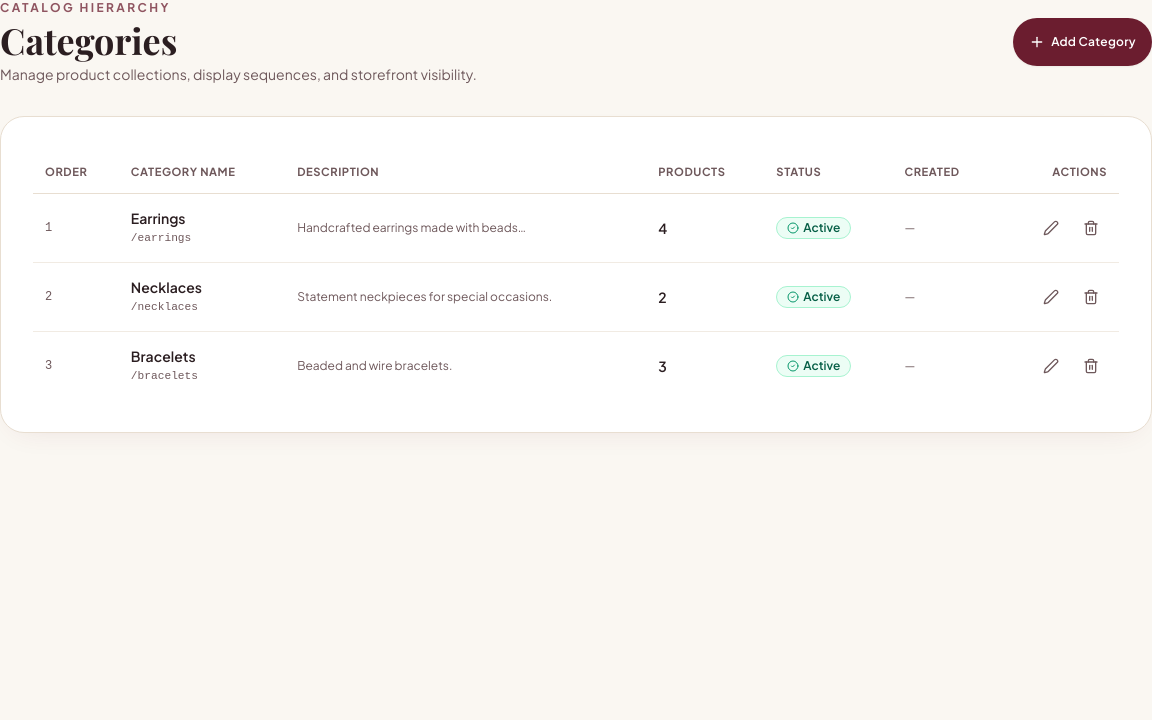
AdminCategoriesPage › opens delete confirmation and deletes category
This screenshot has width=1152, height=720.
Check: the text "Earrings" is shown, box [131, 209, 186, 227]
Click the button named "Delete Earrings".
click(1091, 228)  # box [1075, 212, 1107, 244]
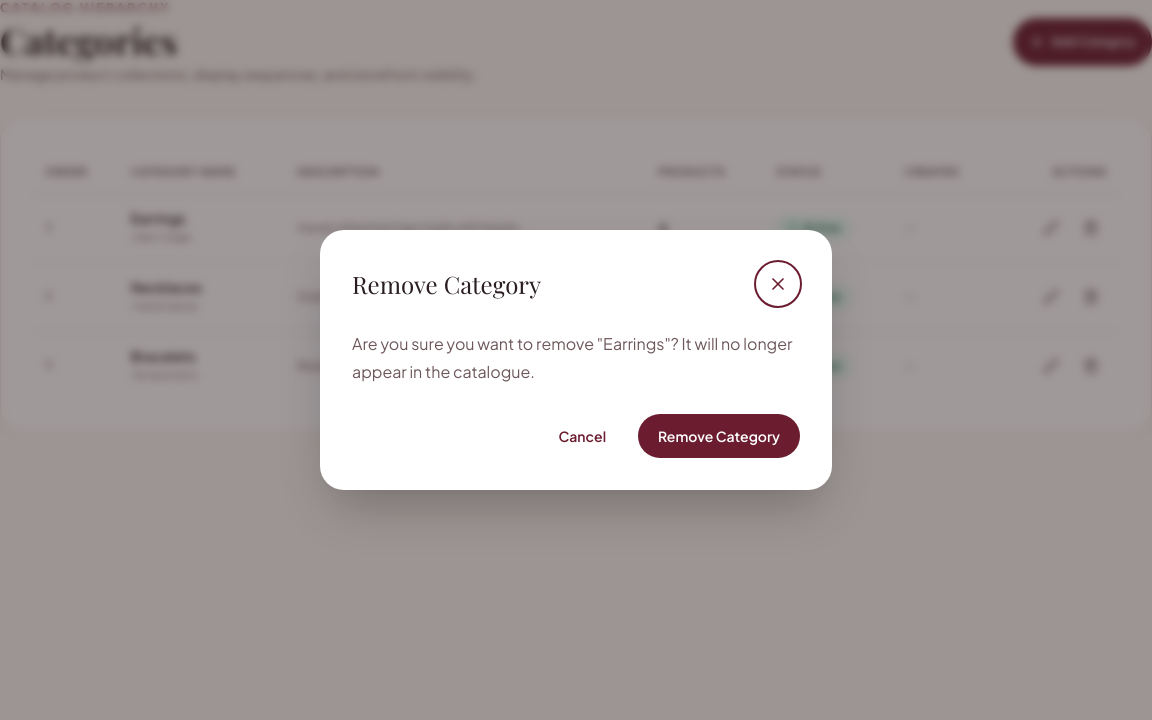
Check: the heading "Remove Category" is shown, box [352, 268, 541, 300]
Click the button "Remove Category".
click(719, 436)  # box [638, 414, 800, 458]
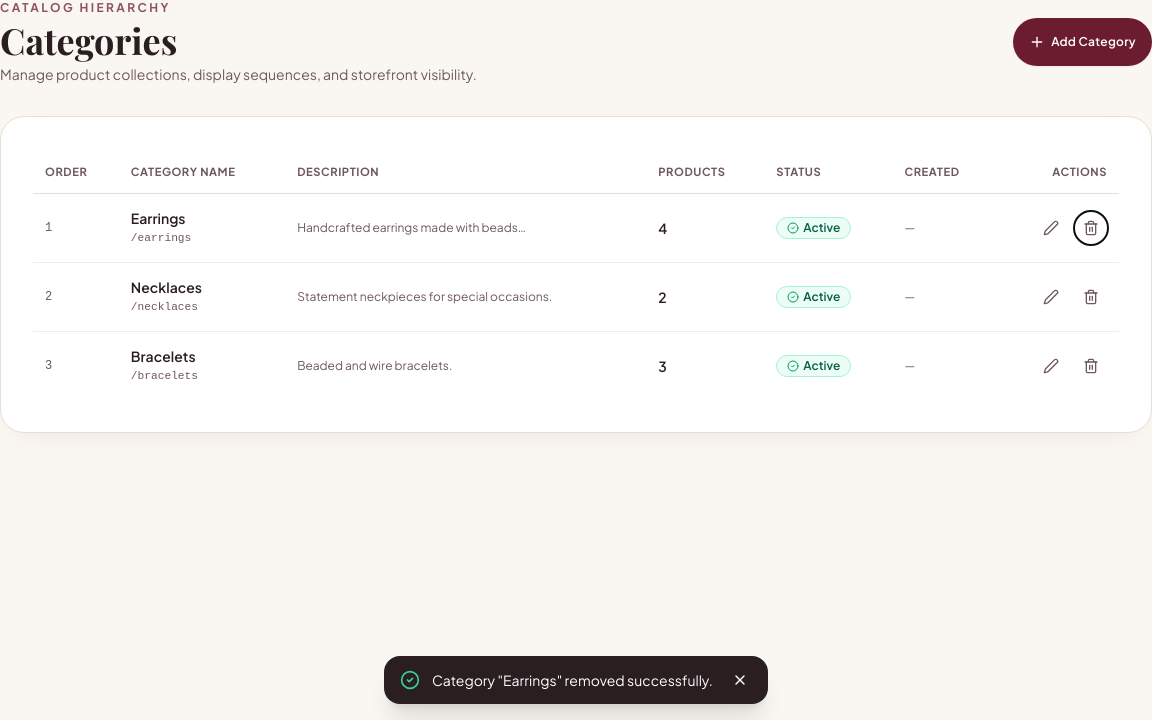
Check: the text "Category \"Earrings\" removed successfully." is shown, box [432, 670, 716, 690]
